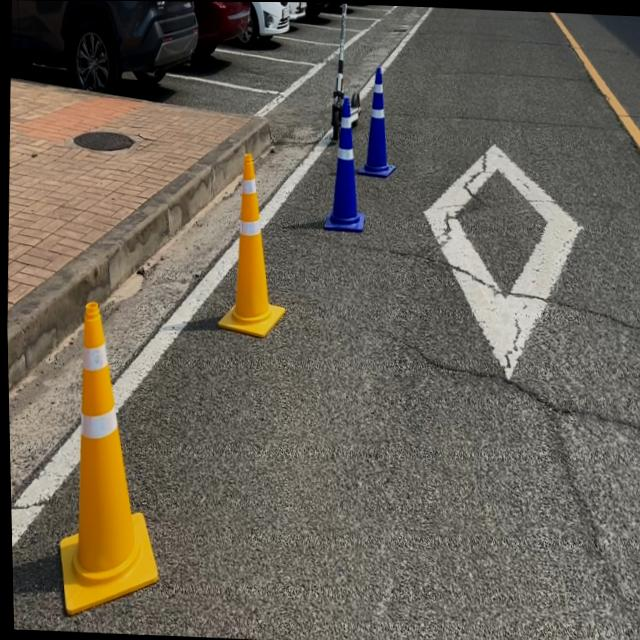b_rub: (323, 94, 364, 230), (357, 64, 395, 175)
y_rub: (56, 300, 154, 615), (216, 151, 283, 336)
